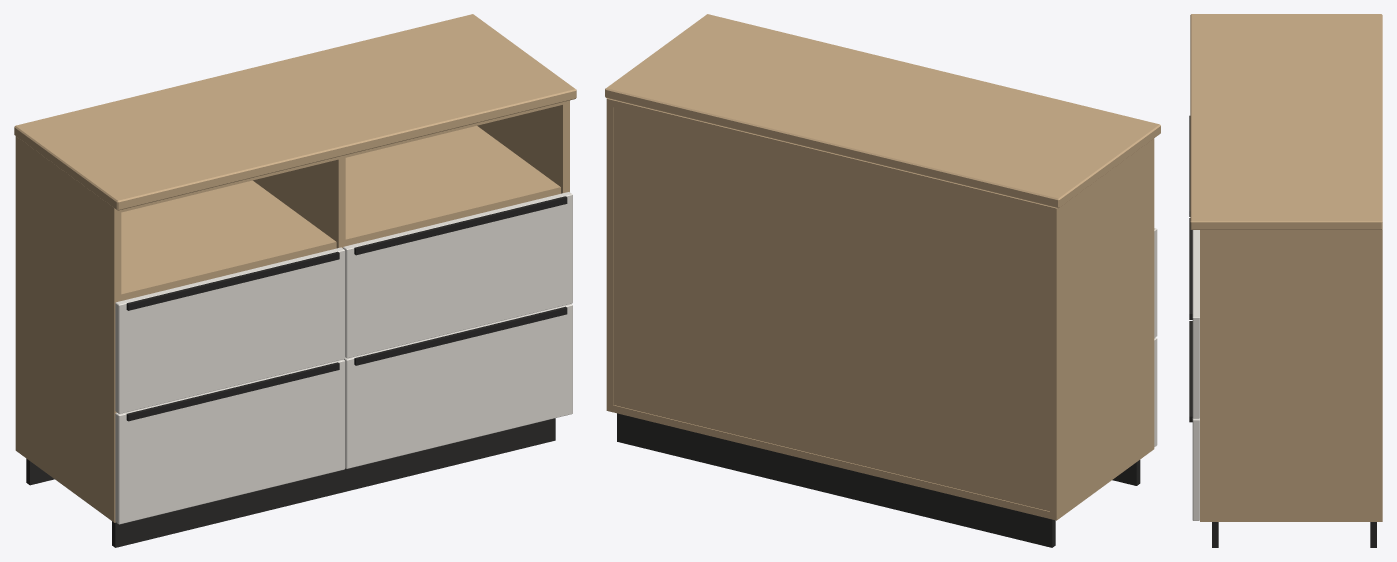
The model's file is 40_komoda_nisza_120.glb.
3 views of the same model, side by side, from view 1: azimuth 30°, elevation 25°; view 2: azimuth 150°, elevation 25°; view 3: azimuth 270°, elevation 25° (orthographic). The views are drawn at different scales.
Visible parts, largest first — view 1: Korpus, Wierzch, Front_szuflada_2, Front_szuflada_5, Front_szuflada_3, Front_szuflada_6, Cokol, Uchwyty; view 2: Korpus, Wierzch, Cokol; view 3: Korpus, Wierzch, Front_szuflada_5, Uchwyty, Front_szuflada_6, Cokol.
Part boxes in pixels (x1,y1,x2,y2): Korpus: (15,100,569,522); Wierzch: (14,14,576,210); Front_szuflada_2: (115,247,345,413); Front_szuflada_5: (343,192,572,358); Front_szuflada_3: (115,359,345,524); Front_szuflada_6: (344,304,572,468); Cokol: (26,418,555,547); Uchwyty: (126,196,567,421); Korpus: (606,98,1154,520); Wierzch: (605,14,1160,208); Cokol: (617,413,1140,547); Korpus: (1200,229,1382,521); Wierzch: (1190,14,1382,229); Front_szuflada_5: (1192,230,1199,418); Uchwyty: (1189,115,1192,422); Front_szuflada_6: (1192,418,1199,520); Cokol: (1212,522,1376,547).
Size of the model in its own units: 1.21 by 0.9 by 0.476.
